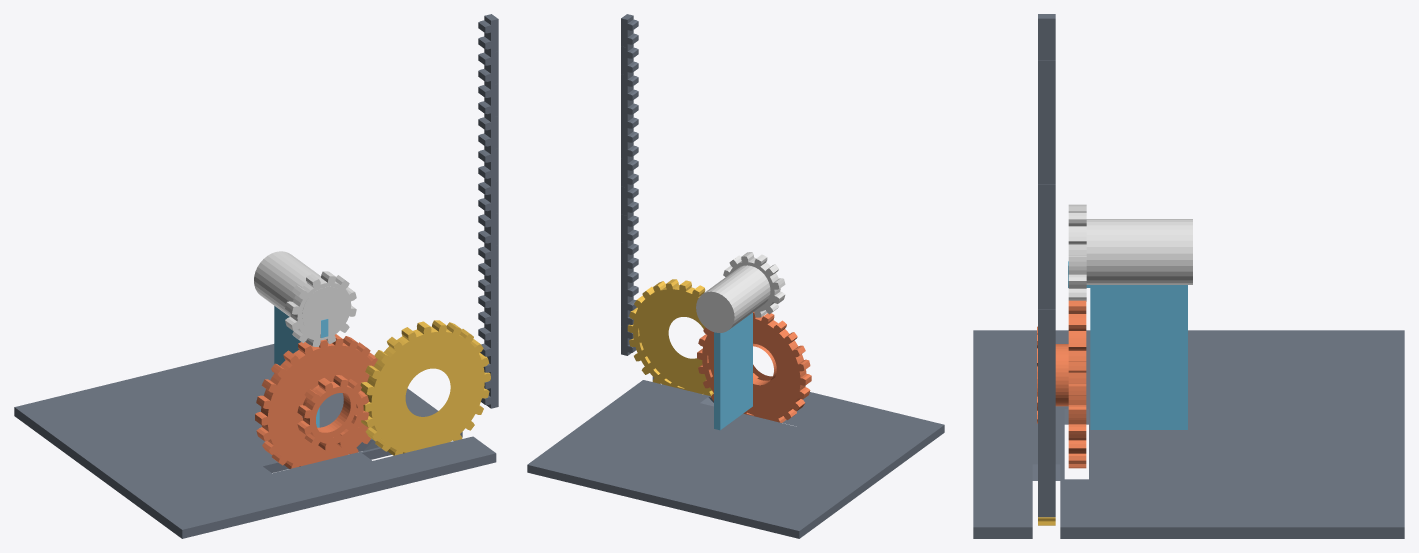
The model's file is ConstraintHinge.glb.
3 views of the same model, side by side, from view 1: azimuth 30°, elevation 25°; view 2: azimuth 150°, elevation 25°; view 3: azimuth 270°, elevation 25° (orthographic). The views are drawn at different scales.
Parts seen in each view (by area): view 1: Ground.003, Gear.005, Gear.004, Ground.004, HingeFrame.001, Gear.003; view 2: Ground.003, HingeFrame.001, Gear.005, Gear.004, Ground.004, Gear.003; view 3: Ground.003, HingeFrame.001, Ground.004, Gear.004, Gear.003.
Part boxes in pixels (box(x1,y1,x2,y2)): Ground.003: box(14, 344, 496, 538); Gear.005: box(360, 320, 490, 455); Gear.004: box(255, 334, 377, 468); Ground.004: box(478, 14, 498, 408); HingeFrame.001: box(254, 251, 346, 427); Gear.003: box(285, 271, 356, 346); Ground.003: box(527, 376, 944, 538); HingeFrame.001: box(696, 265, 770, 430); Gear.005: box(627, 279, 713, 396); Gear.004: box(697, 312, 811, 422); Ground.004: box(621, 14, 638, 355); Gear.003: box(723, 252, 785, 317); Ground.003: box(973, 330, 1404, 538); HingeFrame.001: box(1068, 219, 1192, 429); Ground.004: box(1038, 14, 1055, 517); Gear.004: box(1037, 300, 1086, 468); Gear.003: box(1068, 204, 1086, 301).
Size of the model in its own units: 11.42 by 13.5 by 9.72.
